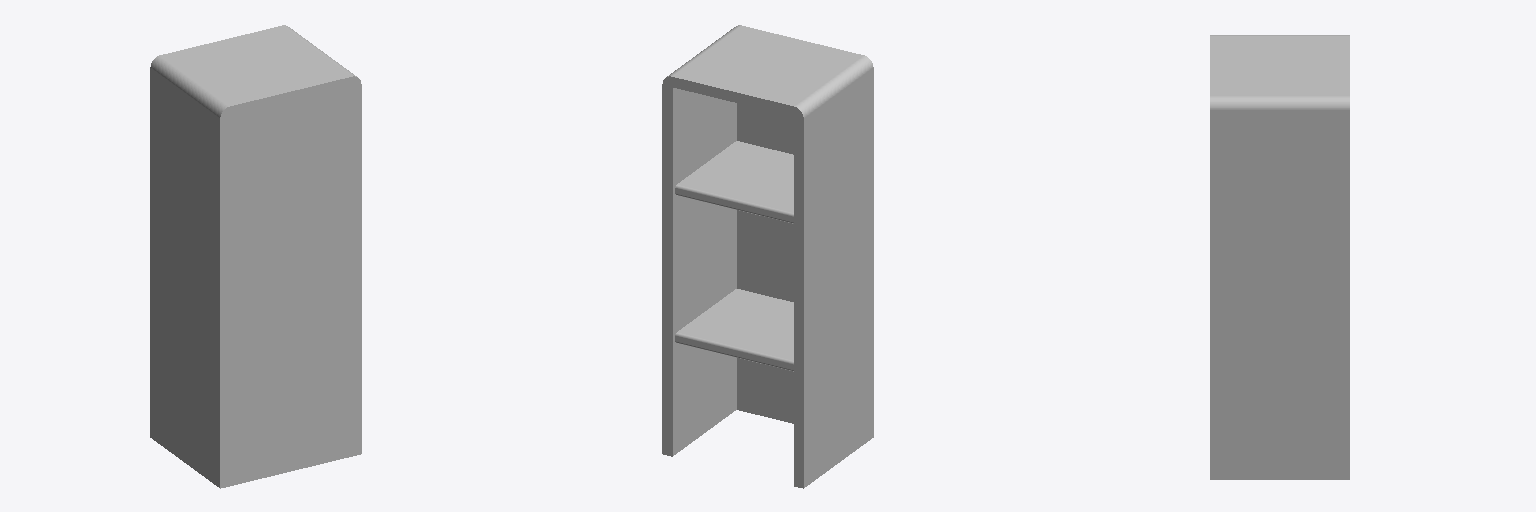
Rendered from shelve.obj.
3 renders of one model, left to right at view 1: azimuth 30°, elevation 25°; view 2: azimuth 150°, elevation 25°; view 3: azimuth 270°, elevation 25°, orthographic.
Parts seen in each view (by area): view 1: back, left, top, top_left; view 2: left, right, back, top, stage_2, stage_1, top_left; view 3: right, top, back, top_right.
Part boxes in pixels (bbox=[...]): back: bbox=[215, 85, 361, 488]; left: bbox=[150, 68, 214, 484]; top: bbox=[161, 26, 350, 116]; top_left: bbox=[150, 55, 229, 118]; left: bbox=[794, 73, 867, 488]; right: bbox=[662, 85, 736, 456]; back: bbox=[737, 68, 873, 440]; top: bbox=[673, 26, 862, 116]; stage_2: bbox=[675, 141, 793, 223]; stage_1: bbox=[675, 289, 793, 371]; top_left: bbox=[794, 55, 873, 118]; right: bbox=[1222, 111, 1349, 479]; top: bbox=[1210, 36, 1349, 95]; back: bbox=[1210, 111, 1221, 479]; top_right: bbox=[1210, 96, 1349, 110].
Size of the model in its own units: 70 by 180 by 60.